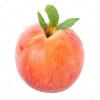Peach leaf: (53, 16, 83, 34), (44, 3, 57, 30), (36, 10, 49, 34)
